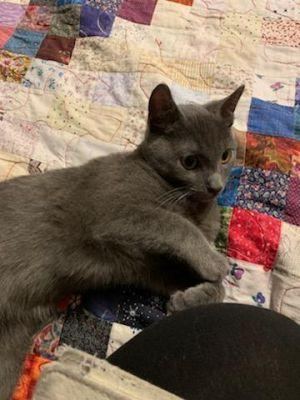rblue: (136, 79, 259, 215)
